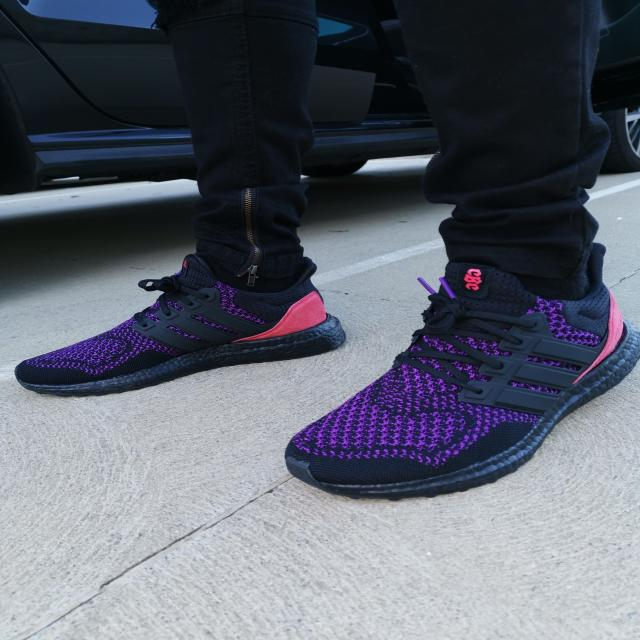shoe: (270, 220, 640, 512), (0, 226, 365, 403)
